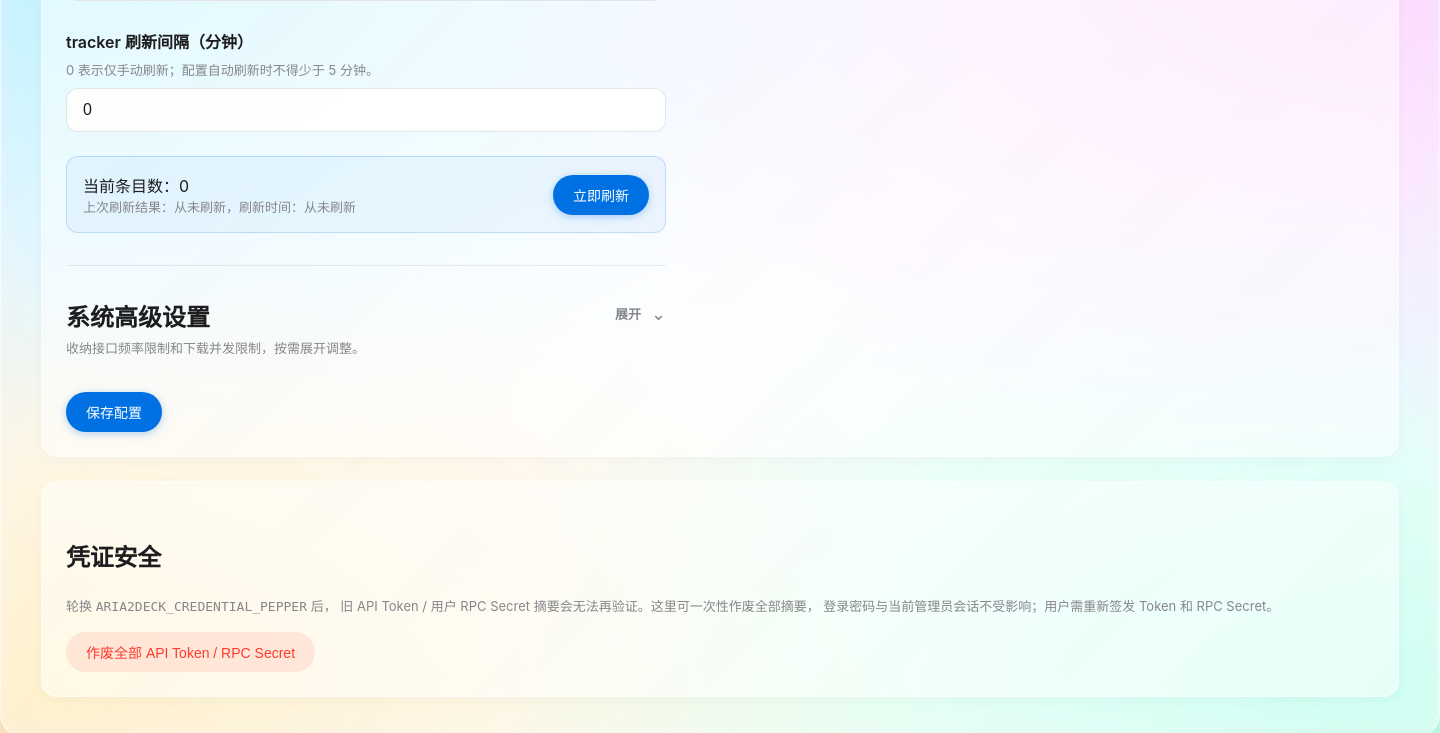
Scenario: SettingsPage › expands advanced settings on demand
(page scrolled)
Click the button "系统高级设置 收纳接口频率限制和下载并发限制，按需展开调整。 展开 ⌄": (138, 318) [66, 298, 666, 360]
(page scrolled)
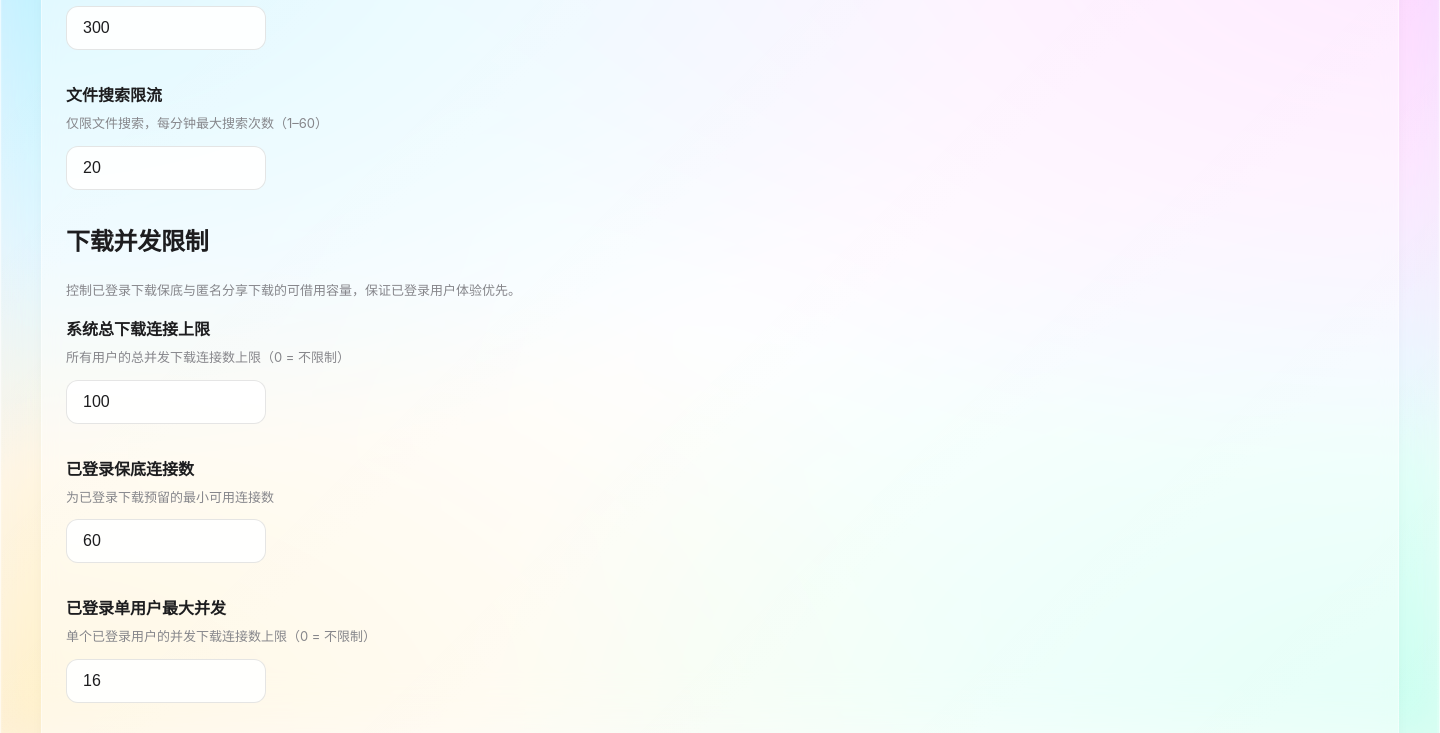
Now the heading "下载并发限制" is shown, box [66, 227, 209, 256]
Now the text "系统总下载连接上限" is shown, box [66, 319, 210, 339]
